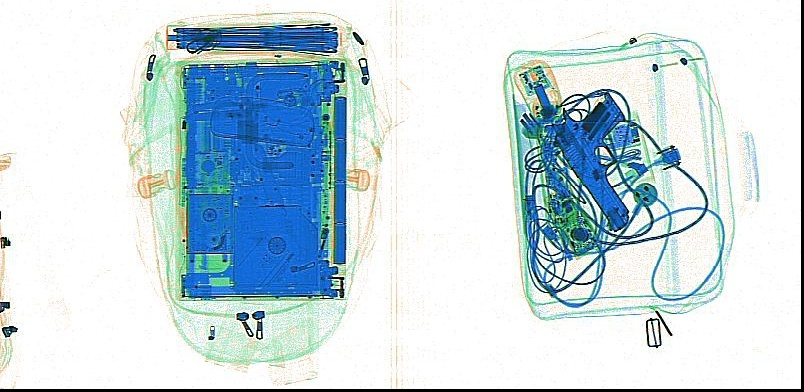knife: (252, 143, 301, 254)
